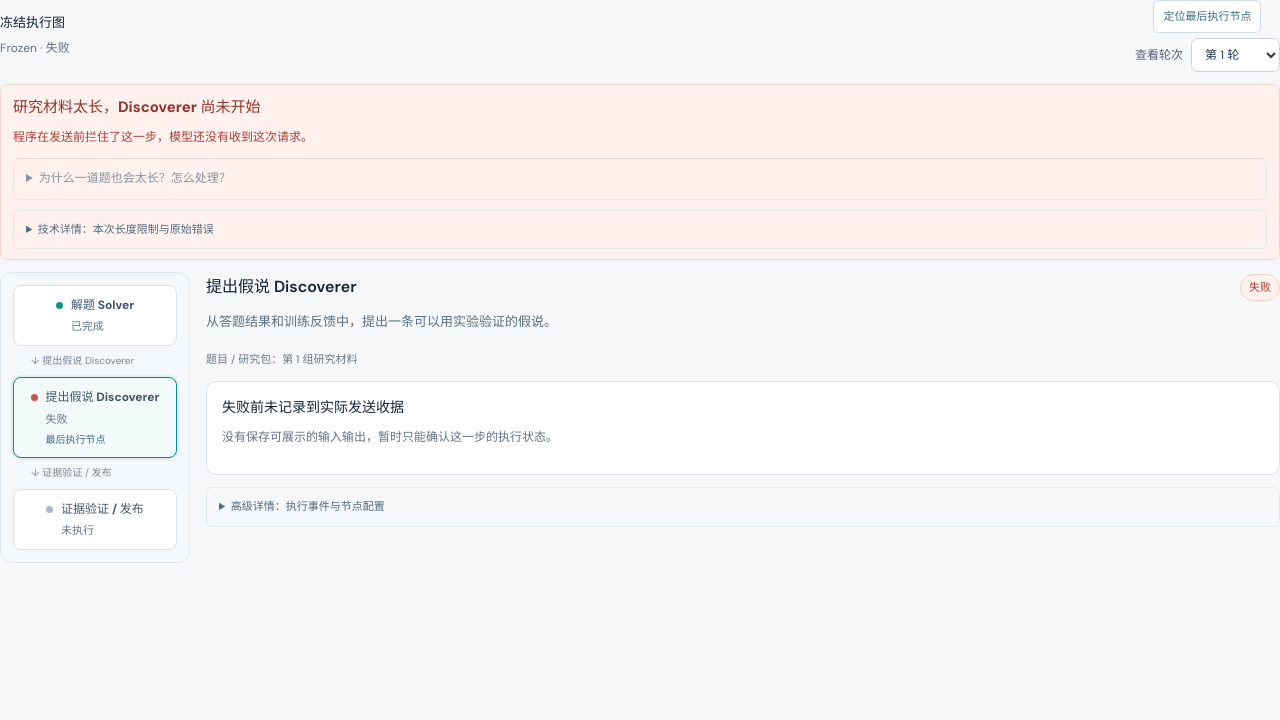
lets the user return to the actual last stage after inspecting another node
The width and height of the screenshot is (1280, 720).
Click the button with aria-label "解题 Solver · 已完成": click(95, 316) x1=13 y1=285 x2=177 y2=346
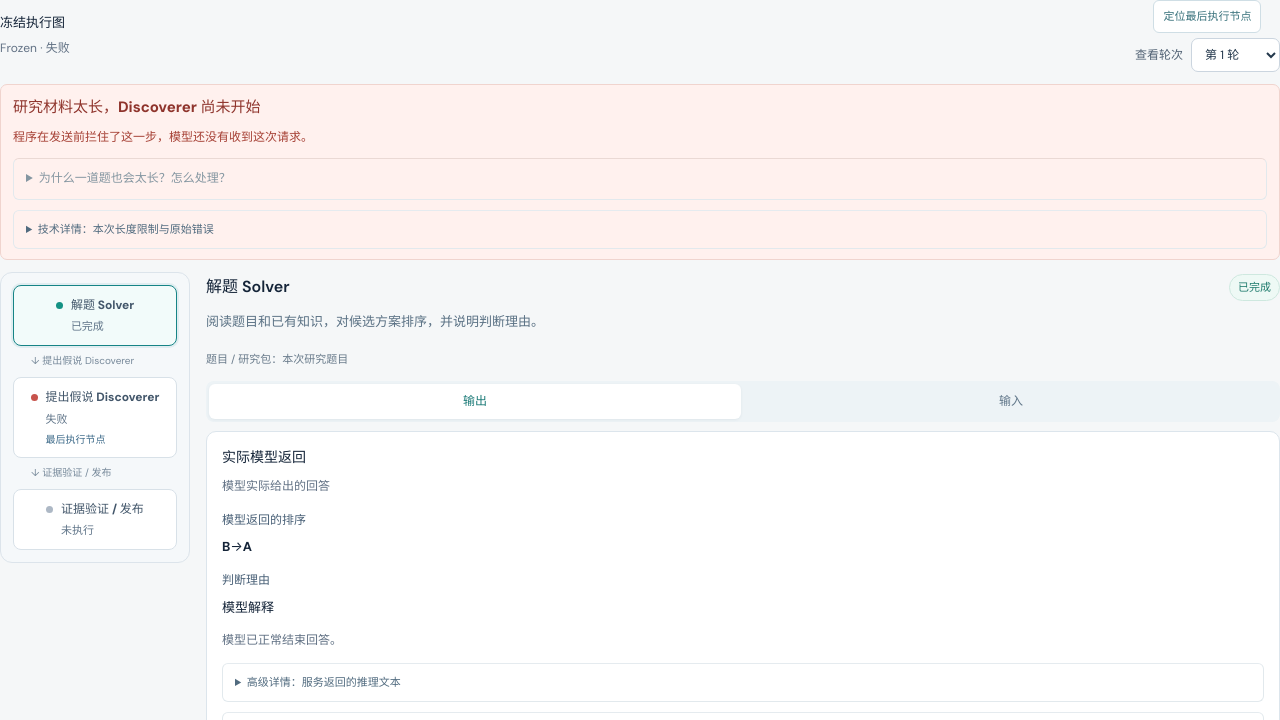
Click the button "定位最后执行节点": click(1208, 16) x1=1154 y1=0 x2=1262 y2=33
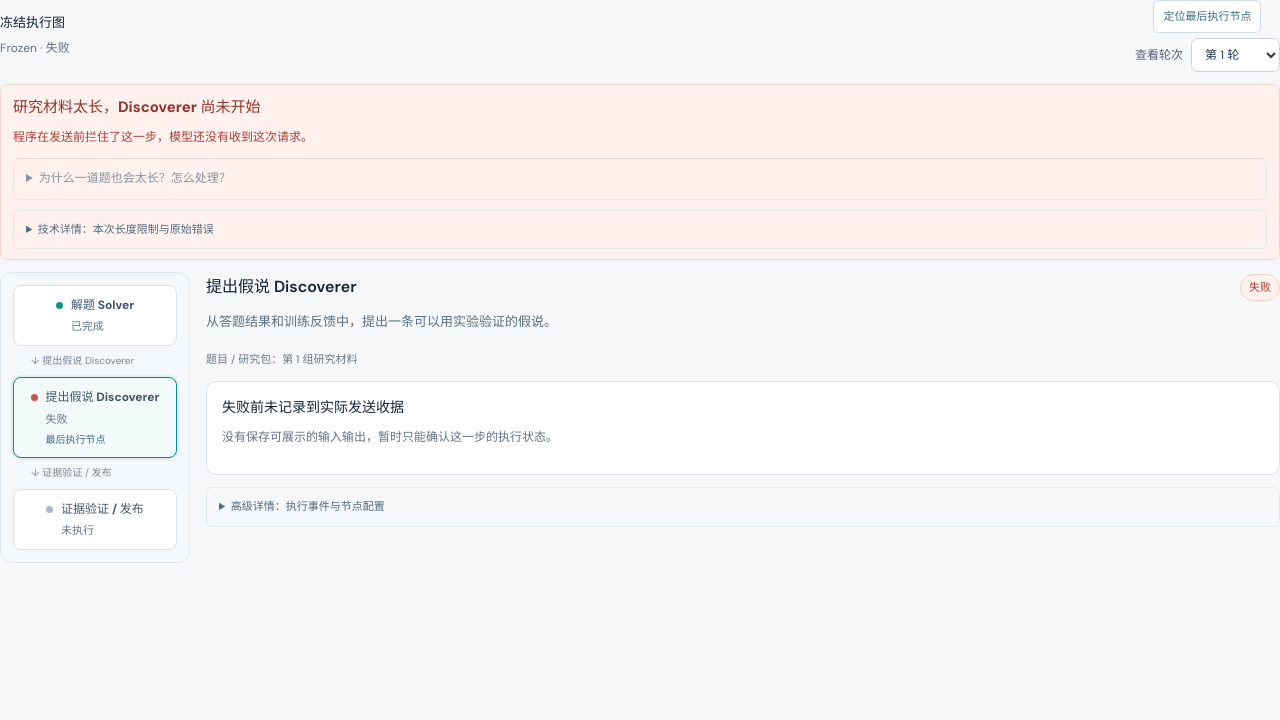
Expected: the heading "失败前未记录到实际发送收据" is shown, x1=222 y1=398 x2=404 y2=416
